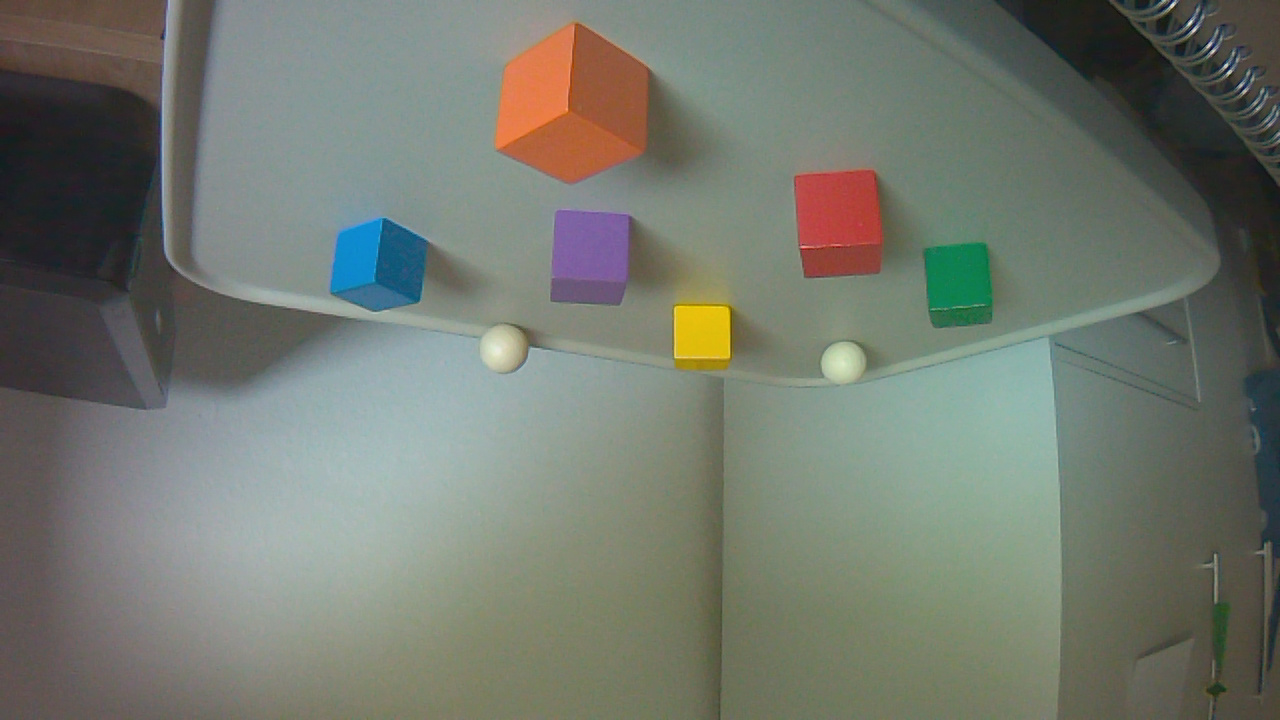ball: (480, 325, 537, 382), (823, 344, 875, 393)
cube_blue: (331, 220, 435, 321)
cube_green: (926, 247, 1000, 337)
cube_orange: (496, 22, 657, 192)
cube_purple: (552, 213, 638, 311)
cube_red: (797, 168, 893, 287)
cube_yellow: (674, 308, 740, 377)
